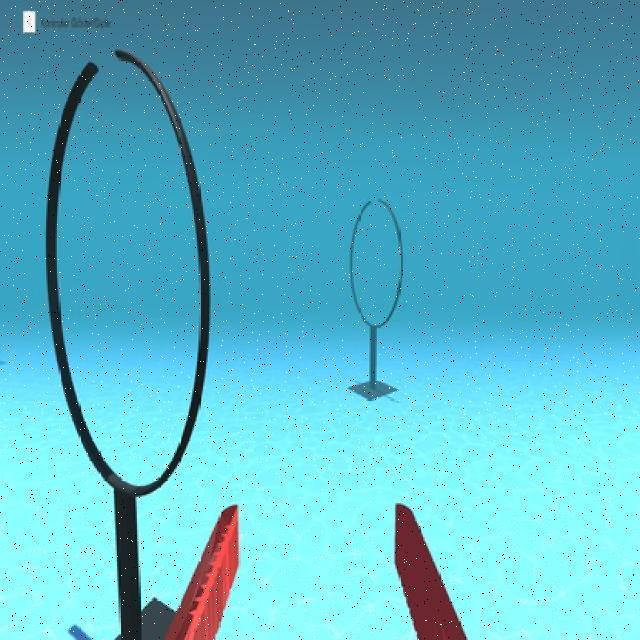Circle: (42, 47, 219, 497), (348, 193, 408, 328)
